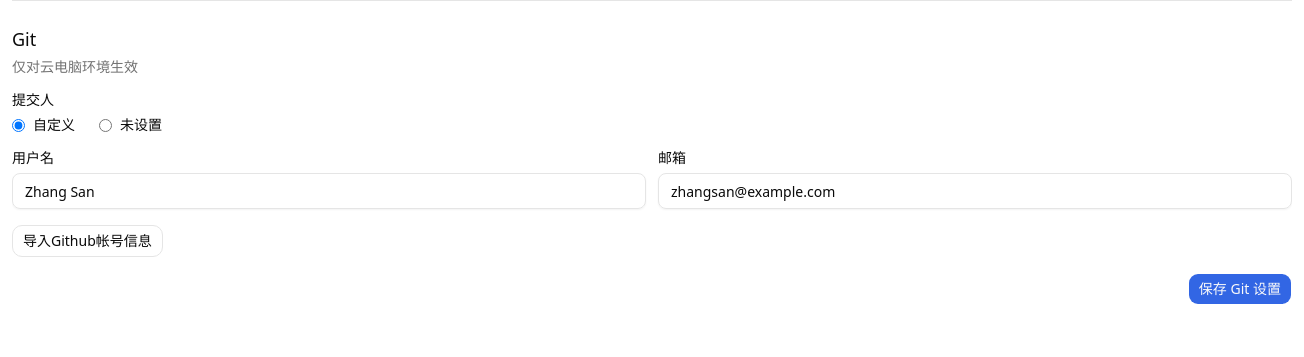
Scenario: GitSettingsSection › T-FE-G2 自定义校验 › 服务端 invalid custom committer 映射为格式不正确文案
The width and height of the screenshot is (1304, 357).
Click the button "保存 Git 设置" at (1240, 289), box [1188,273,1292,305]
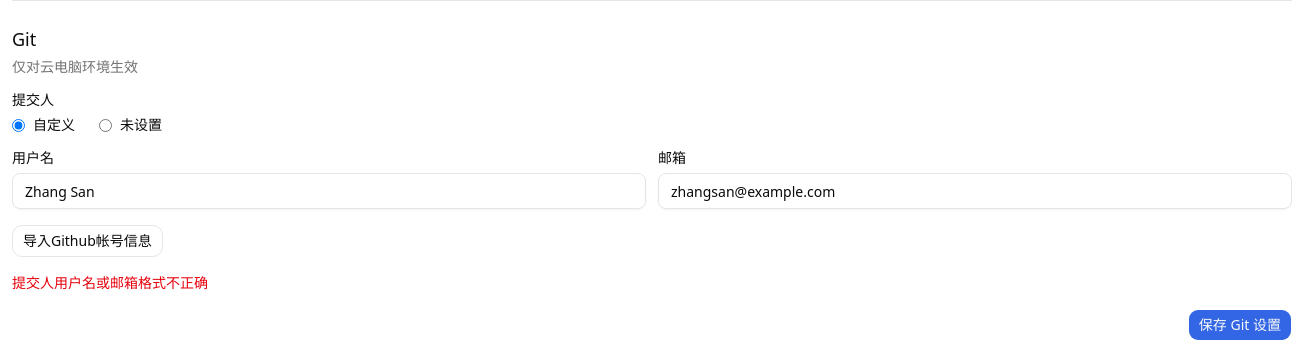
Now the message reads "提交人用户名或邮箱格式不正确", box [12,273,208,292]
